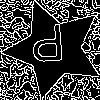P: (29, 24, 67, 72)
